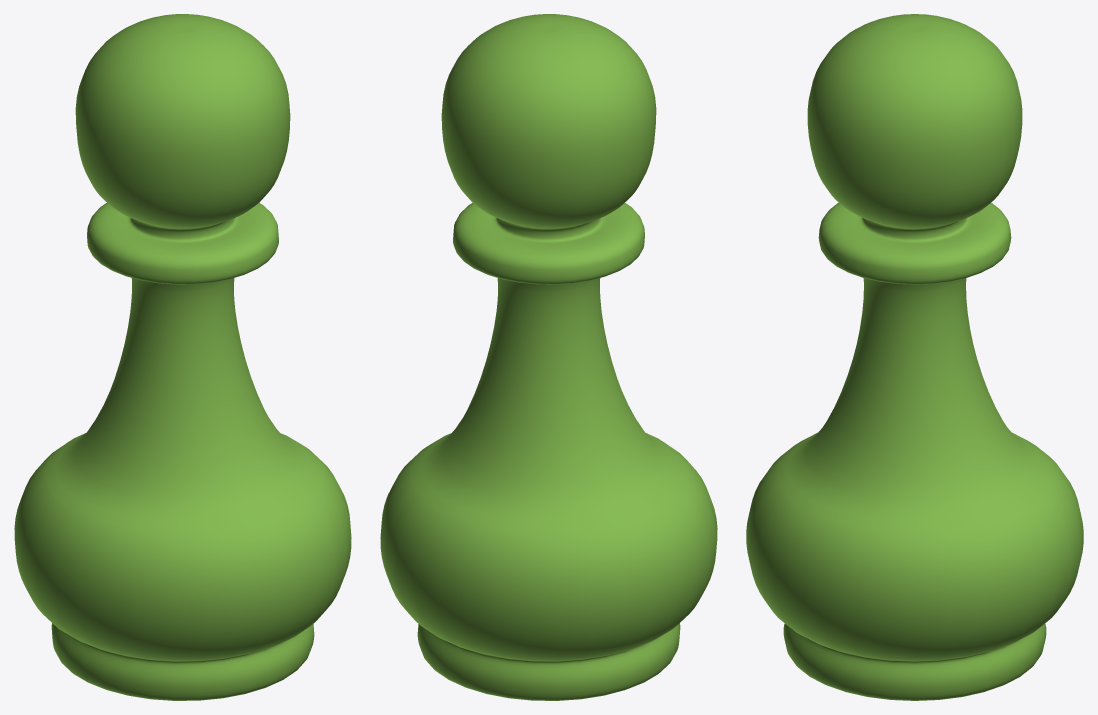
Rendered from Pawn_Green.fbx.
The picture shows the model from 3 angles, left to right: view 1: azimuth 30°, elevation 25°; view 2: azimuth 150°, elevation 25°; view 3: azimuth 270°, elevation 25°; orthographic projection.
Parts seen in each view (by area): view 1: Pawn_Green; view 2: Pawn_Green; view 3: Pawn_Green.
Part boxes in pixels (bbox=[...]): Pawn_Green: bbox=[14, 14, 351, 700]; Pawn_Green: bbox=[380, 14, 717, 700]; Pawn_Green: bbox=[746, 14, 1083, 700].
Bounding box in the file's own units: 0.2641 × 0.5369 × 0.2641.
1 material, 1 textured.
